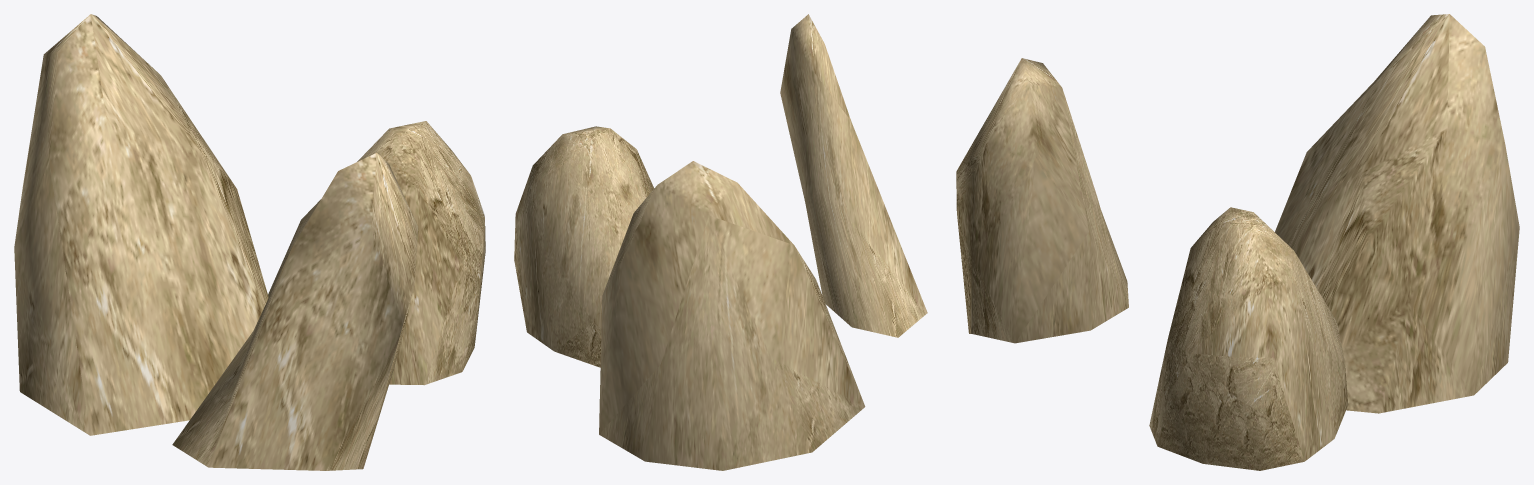
Rendered from geo_desert_06.dae.
The picture shows the model from 3 angles, left to right: view 1: azimuth 30°, elevation 25°; view 2: azimuth 150°, elevation 25°; view 3: azimuth 270°, elevation 25°; orthographic projection. The views are drawn at different scales.
Parts seen in each view (by area): view 1: stone_granite_medium_09-Pivot; view 2: stone_granite_medium_09-Pivot; view 3: stone_granite_medium_09-Pivot.
Boxes of the visible parts, x1,y1,x2,y2 form: stone_granite_medium_09-Pivot: (14, 14, 485, 470); stone_granite_medium_09-Pivot: (514, 14, 927, 470); stone_granite_medium_09-Pivot: (956, 14, 1519, 470).
Bounding box in the file's own units: 9.73 × 11.71 × 7.75.
